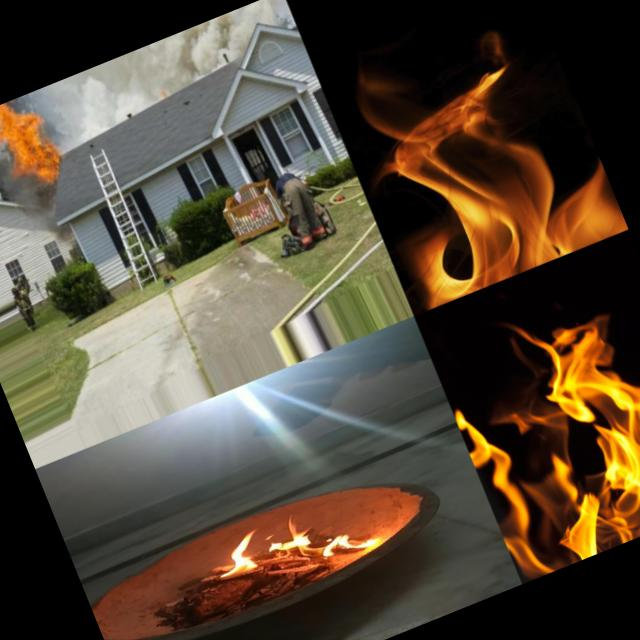fire: (324, 7, 628, 316), (431, 269, 640, 583), (0, 91, 68, 195), (202, 530, 268, 586), (319, 516, 386, 564), (260, 508, 316, 560)
smoke: (102, 20, 226, 110), (34, 63, 126, 149), (8, 185, 70, 245), (207, 0, 289, 39), (0, 133, 28, 209)
